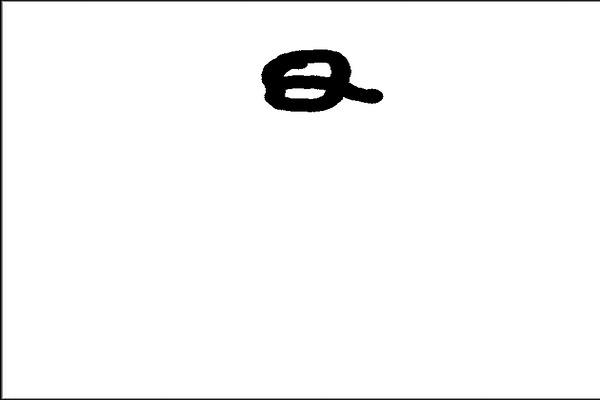Q: (250, 39, 380, 119)
